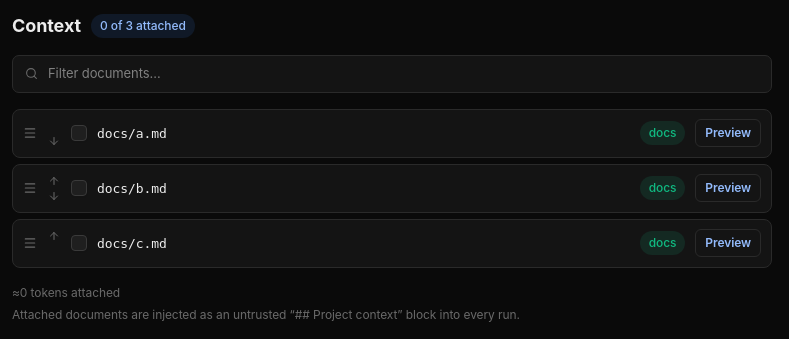
Test: Agent ContextTab: optimistic serialized attach › B5 / C-AC-31: a toggle shows immediately, before the server responds
Expected: the text "0 of 3 attached" is shown, left=91, top=14, right=195, bottom=38
Click the checkbox named "docs/a.md": (79, 133) left=71, top=125, right=87, bottom=141
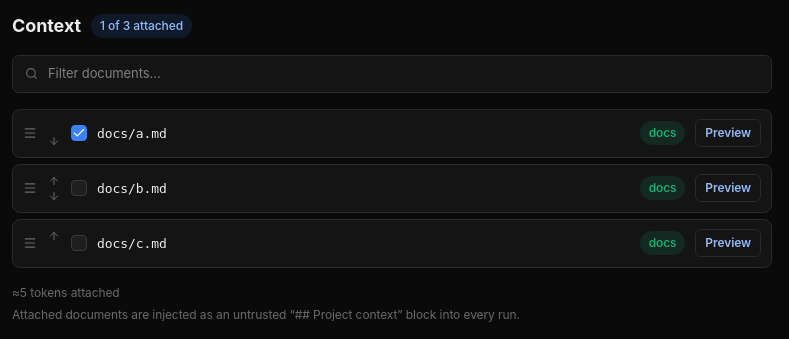
Expected: the text "1 of 3 attached" is shown, left=91, top=14, right=192, bottom=38
